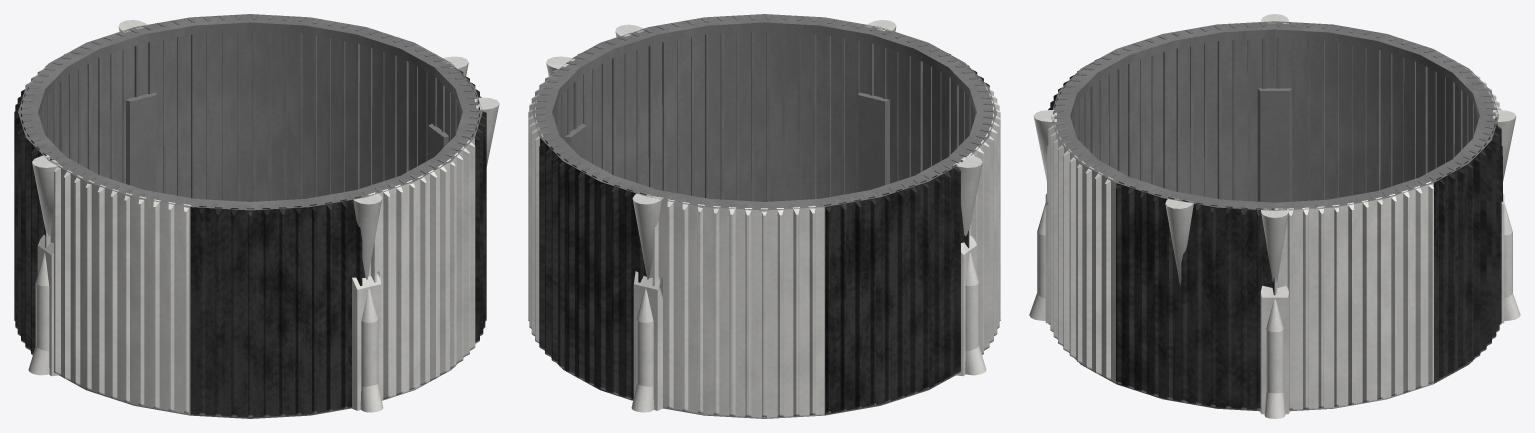
Rendered from ksprocket.fbx.
3 renders of one model, left to right at view 1: azimuth 30°, elevation 25°; view 2: azimuth 150°, elevation 25°; view 3: azimuth 270°, elevation 25°, orthographic. The views are drawn at different scales.
Visible parts, largest first — view 1: ullage.002; view 2: ullage.002; view 3: ullage.002.
Boxes of the visible parts, left/top/right/bottom form: ullage.002: left=14, top=14, right=499, bottom=418; ullage.002: left=528, top=14, right=1000, bottom=418; ullage.002: left=1029, top=14, right=1520, bottom=418.
Bounding box in the file's own units: 1107 × 502 × 1107.
1 material, 1 textured.
